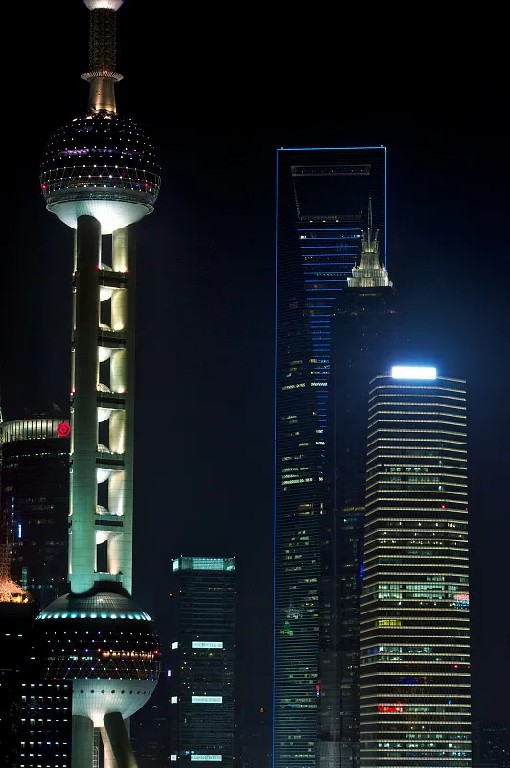Oriental: (38, 1, 162, 768)
